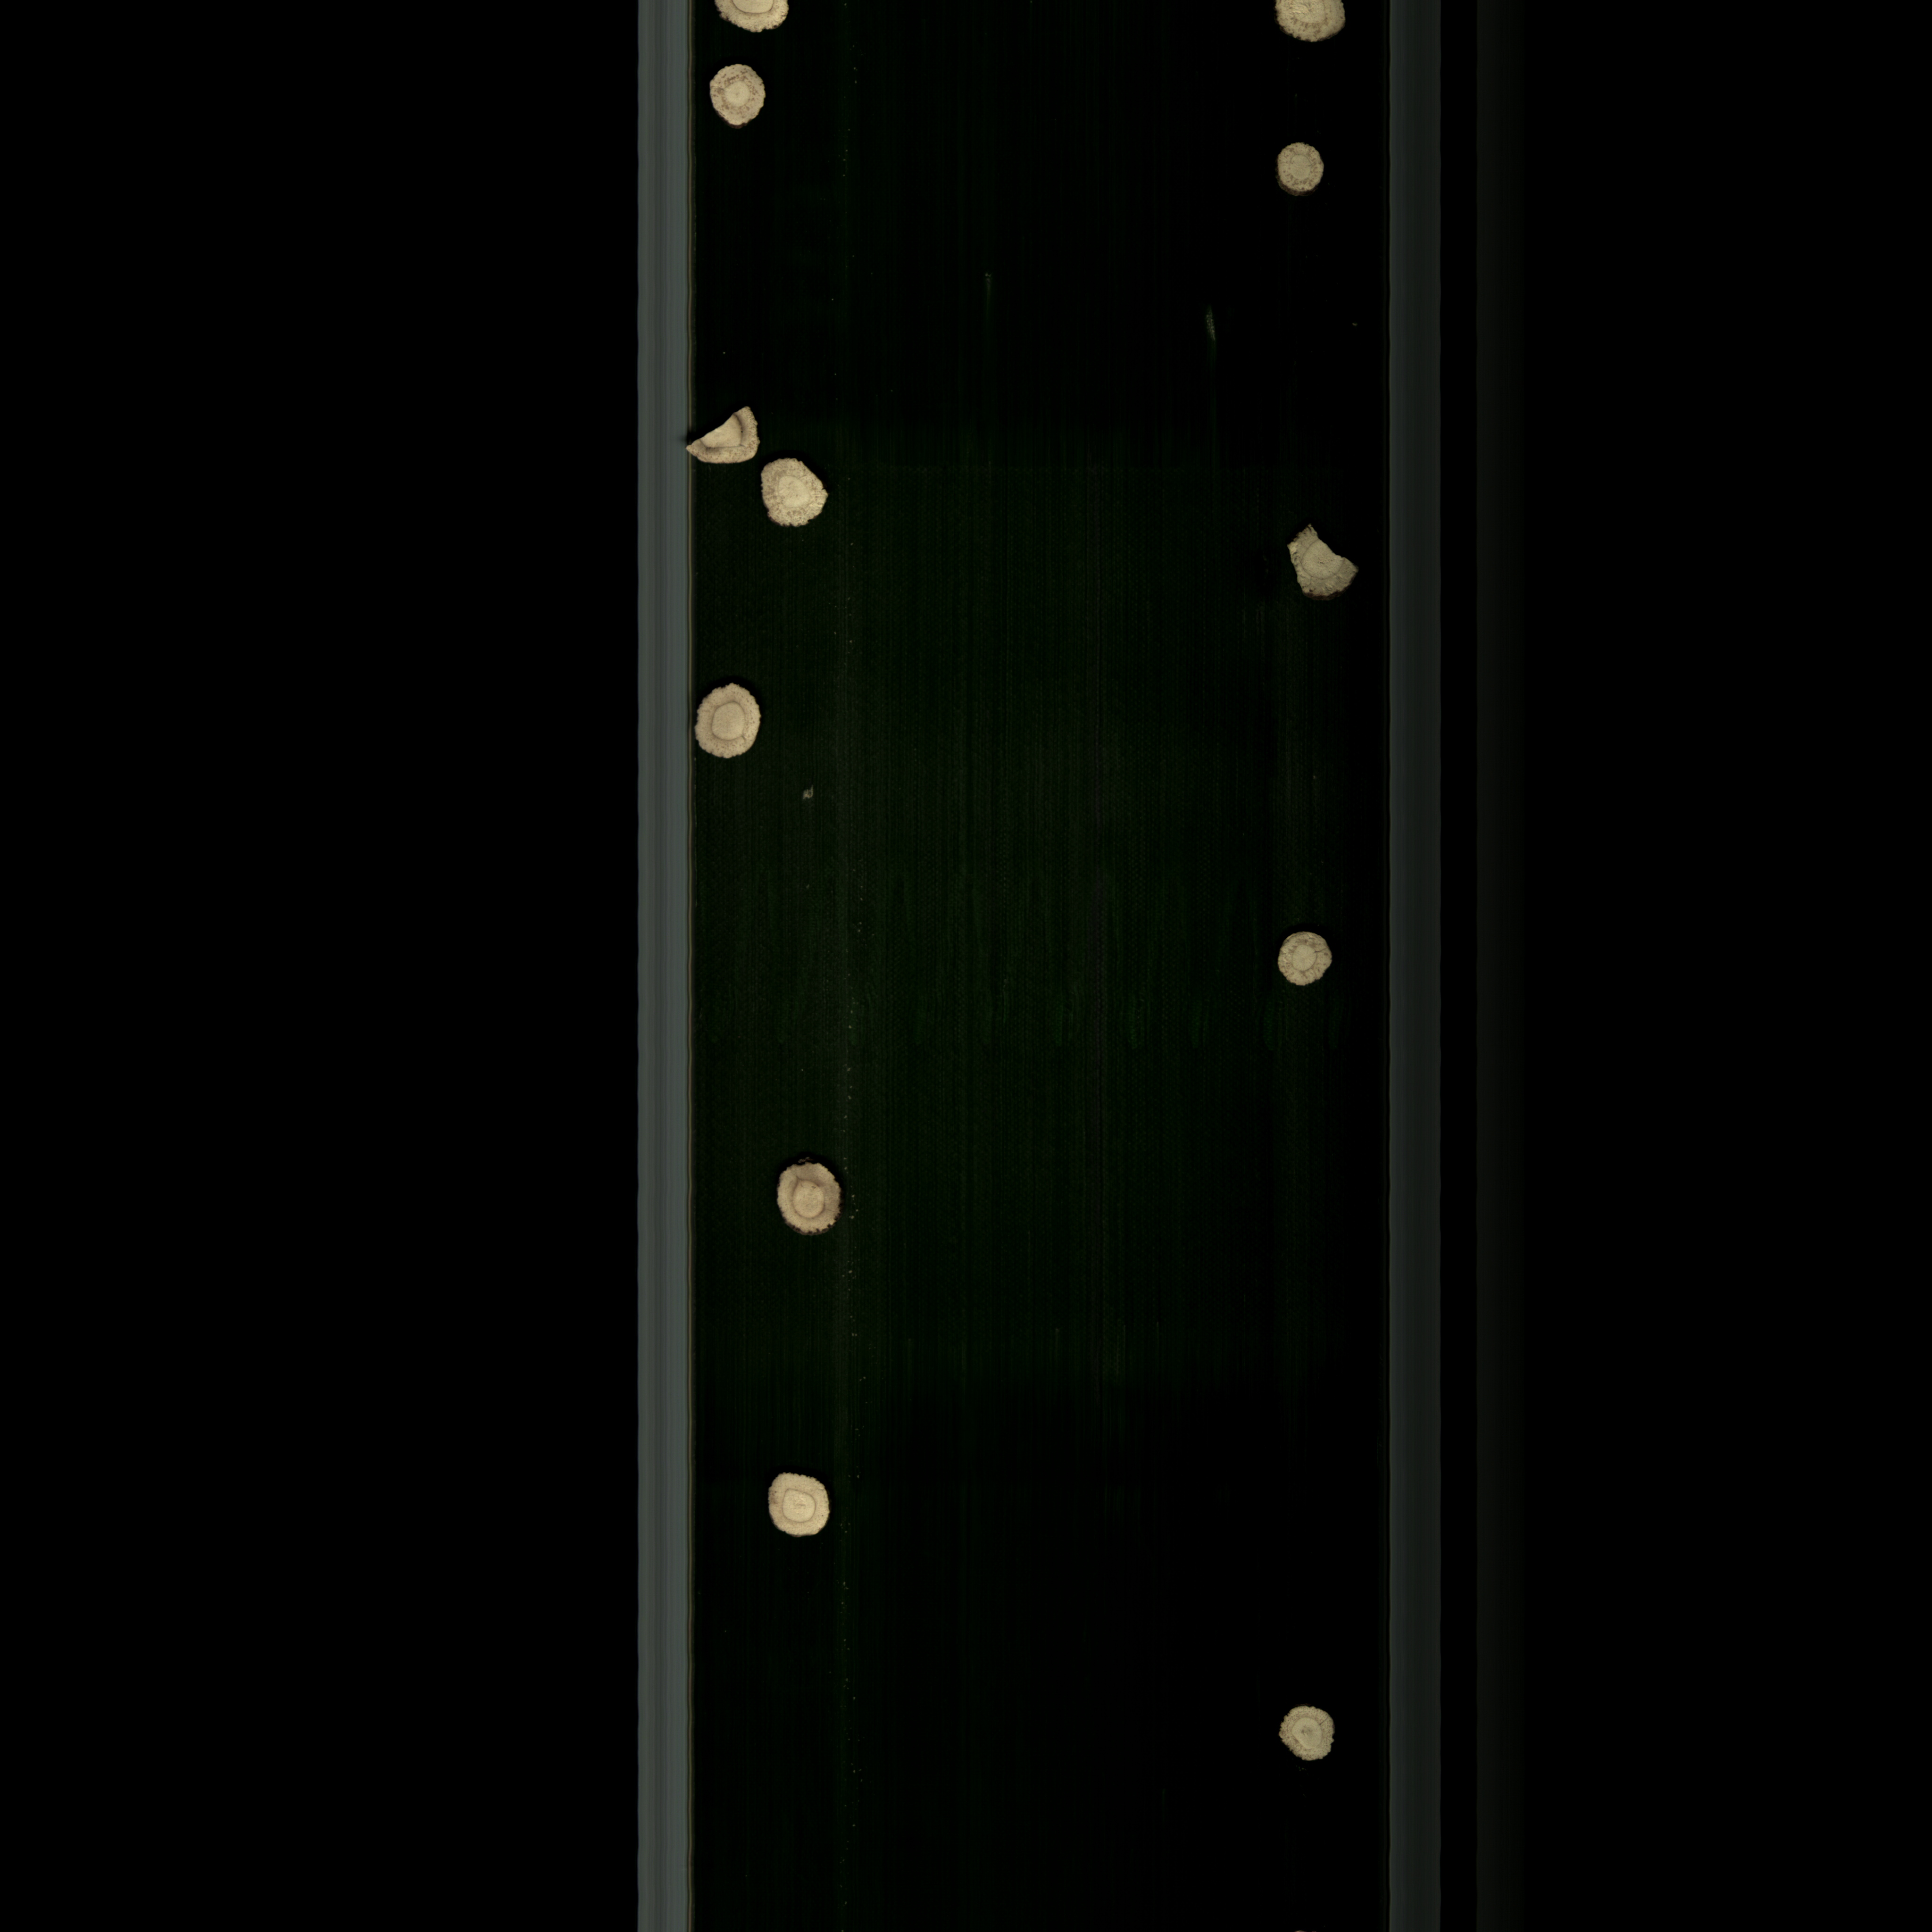moldy: (1253, 520, 1373, 602), (771, 1154, 851, 1238), (678, 395, 764, 471), (759, 460, 846, 533), (1265, 1700, 1341, 1778), (1261, 131, 1332, 214), (699, 55, 768, 133), (1269, 0, 1366, 53)
